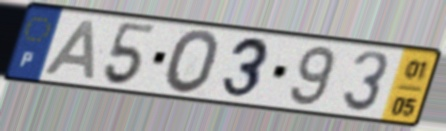3: (218, 33, 274, 101), (339, 49, 390, 115)
5: (100, 19, 158, 88)
9: (286, 44, 339, 109)
A: (40, 17, 97, 82)
O: (161, 27, 222, 97)
